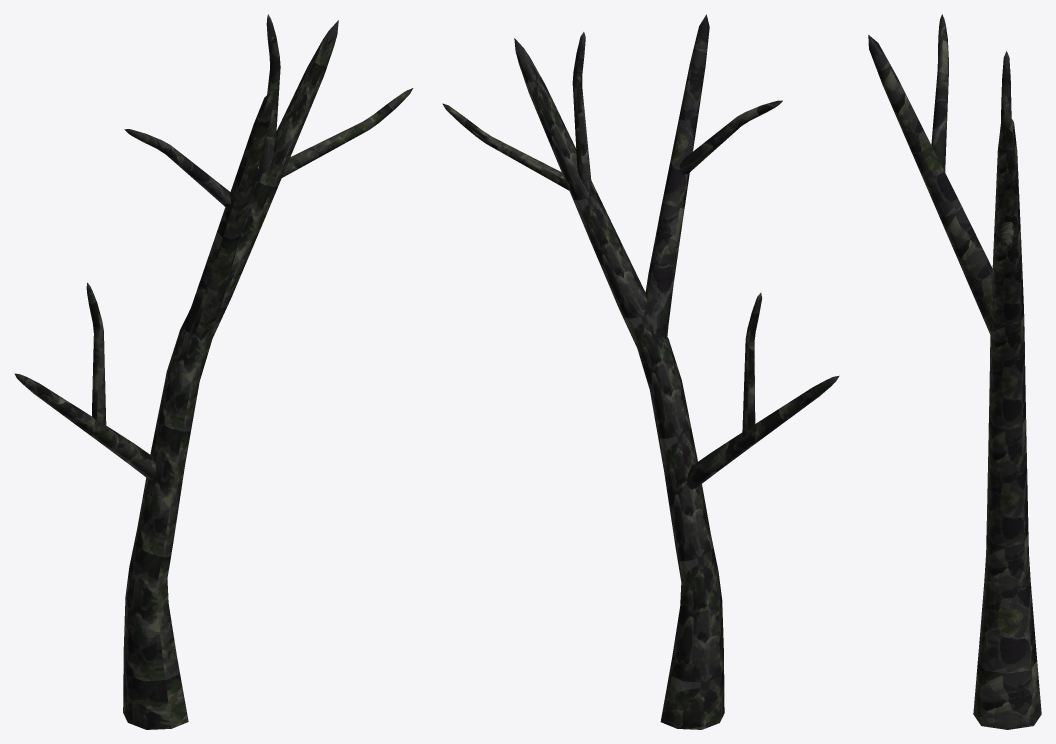
File: dead_tree_9.glb
The picture shows the model from 3 angles, left to right: view 1: azimuth 30°, elevation 25°; view 2: azimuth 150°, elevation 25°; view 3: azimuth 270°, elevation 25°; orthographic projection. The views are drawn at different scales.
Parts seen in each view (by area): view 1: DeadTree_92; view 2: DeadTree_92; view 3: DeadTree_92.
Part boxes in pixels (x1,y1,x2,y2): DeadTree_92: [14, 14, 413, 729]; DeadTree_92: [442, 14, 839, 729]; DeadTree_92: [868, 14, 1041, 729].
Bounding box in the file's own units: 2.06 × 3.3 × 0.7175.
1 material, 1 textured.
